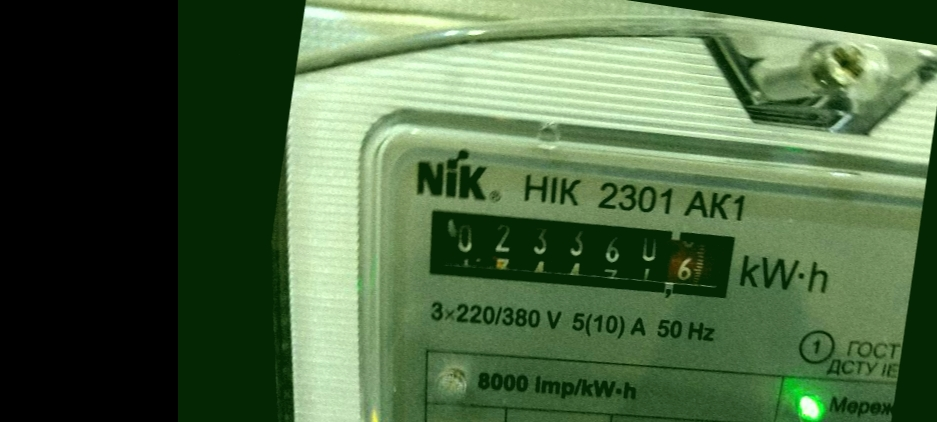0: (451, 219, 478, 256), (635, 231, 661, 265)
2: (491, 220, 515, 255)
3: (565, 223, 588, 259), (527, 224, 550, 257)
6: (599, 230, 625, 266), (672, 250, 698, 286)
screen: (405, 182, 753, 325)
